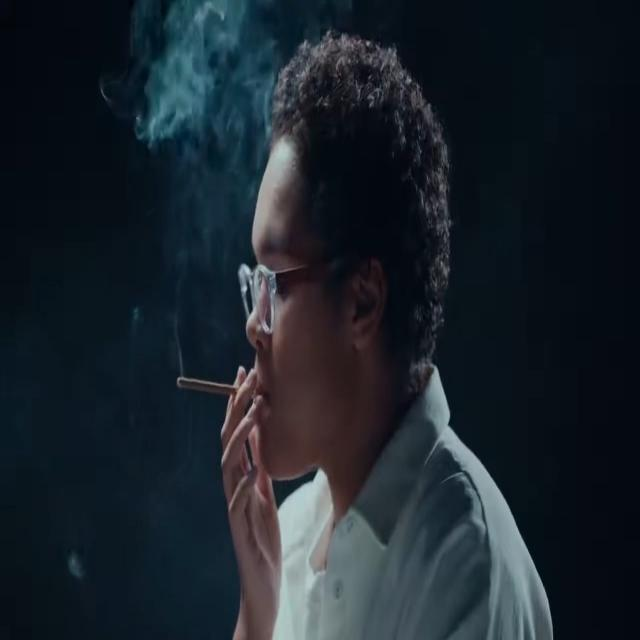Курение: (171, 361, 265, 415)
